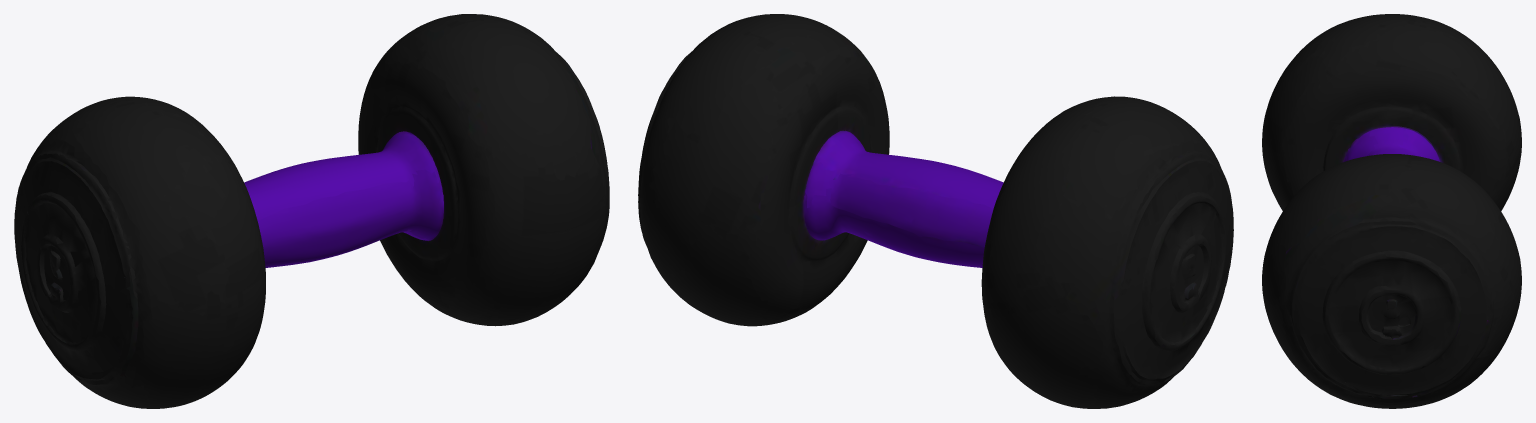
Rendered from dumbbell.glb.
3 views of the same model, side by side, from view 1: azimuth 30°, elevation 25°; view 2: azimuth 150°, elevation 25°; view 3: azimuth 270°, elevation 25° (orthographic). The views are drawn at different scales.
Parts seen in each view (by area): view 1: world; view 2: world; view 3: world.
Part boxes in pixels (x1,y1,x2,y2): world: (14,14,609,408); world: (638,14,1233,408); world: (1262,14,1521,408).
Bounding box in the file's own units: 0.32 × 0.1692 × 0.1661.
1 material, 1 textured.
